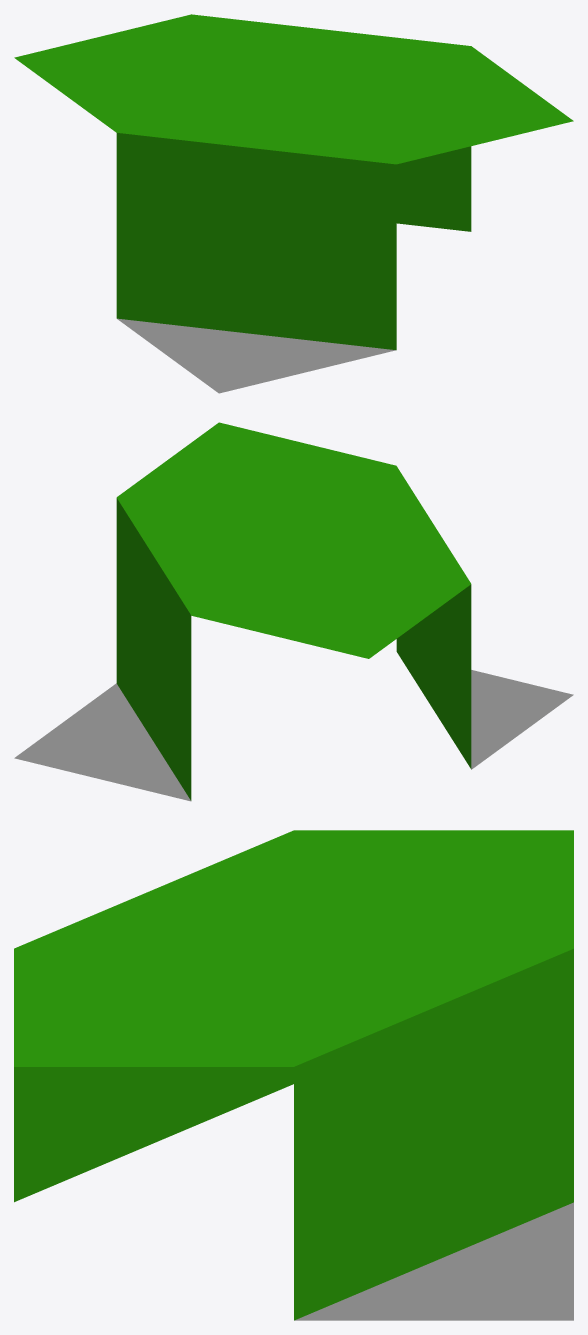
3 views of the same model, one above another, from view 1: azimuth 30°, elevation 25°; view 2: azimuth 150°, elevation 25°; view 3: azimuth 270°, elevation 25° (orthographic). The views are drawn at different scales.
Parts seen in each view (by area): view 1: T_a_0_0; view 2: T_a_0_0; view 3: T_a_0_0.
Part boxes in pixels (box(x1,y1,x2,y2)): T_a_0_0: box(14, 14, 573, 393); T_a_0_0: box(14, 422, 573, 801); T_a_0_0: box(14, 830, 573, 1320).
Bounding box in the file's own units: 99.79 × 49.91 × 99.81.
